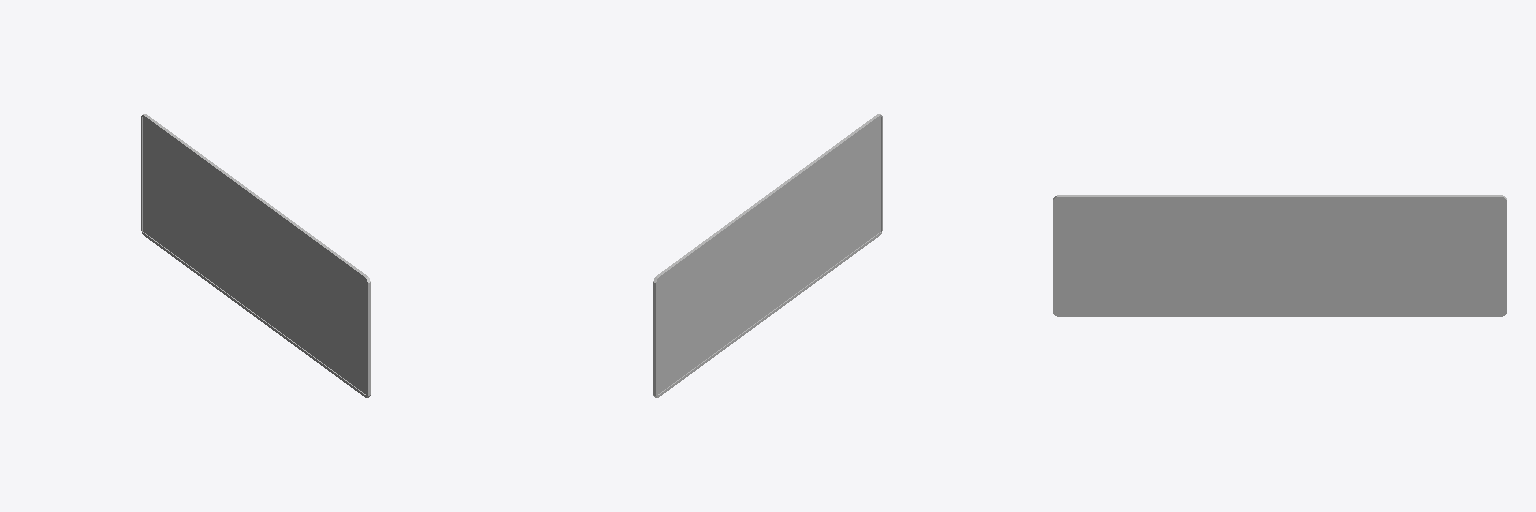
File: Horizontal_Holo_sign.obj
3 renders of one model, left to right at view 1: azimuth 30°, elevation 25°; view 2: azimuth 150°, elevation 25°; view 3: azimuth 270°, elevation 25°, orthographic.
Parts seen in each view (by area): view 1: Cube1; view 2: Cube1; view 3: Cube1.
Part boxes in pixels (x1,y1,x2,y2): Cube1: (141,114,370,397); Cube1: (653,114,882,397); Cube1: (1053,195,1506,316).
Size of the model in its own units: 0.056 by 2 by 6.84.